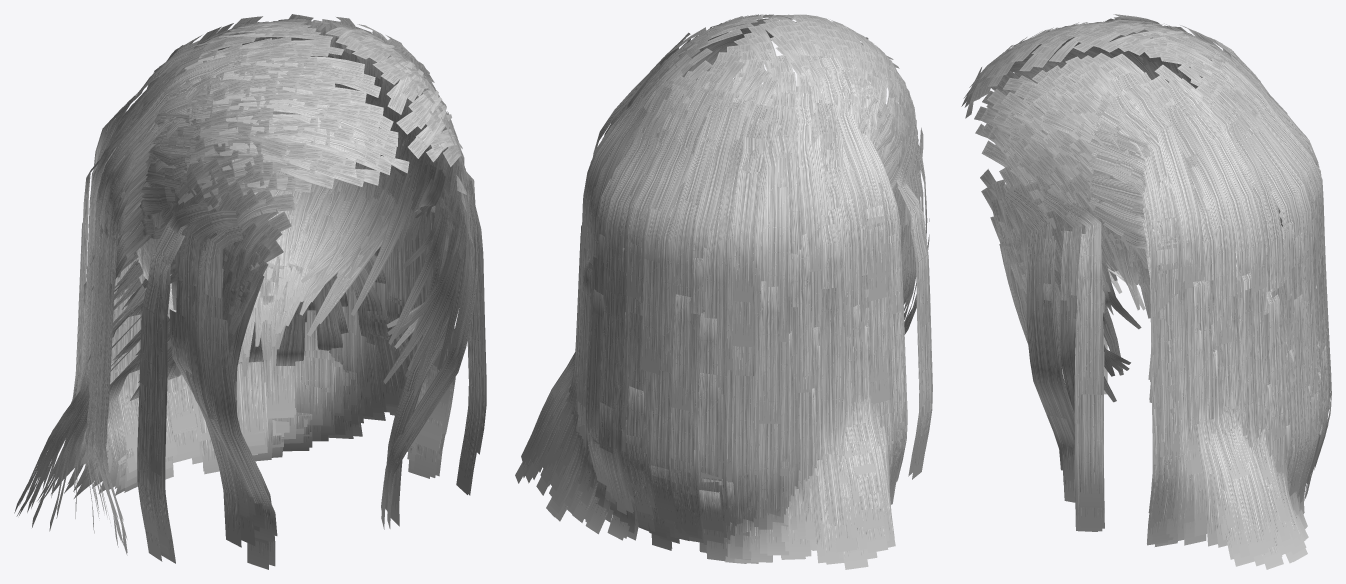
The model's file is NC_Head_Female_Cards7.fbx.
3 renders of one model, left to right at view 1: azimuth 30°, elevation 25°; view 2: azimuth 150°, elevation 25°; view 3: azimuth 270°, elevation 25°, orthographic. The views are drawn at different scales.
Visible parts, largest first — view 1: Hair_Bob_CapCards, Hair_Bob_Cards_2, Hair_Bob_Cards_3; view 2: Hair_Bob_Cards_3, Hair_Bob_CapCards, Hair_Bob_Cards_2; view 3: Hair_Bob_Cards_3, Hair_Bob_Cards_2, Hair_Bob_CapCards.
Boxes of the visible parts, x1,y1,x2,y2 form: Hair_Bob_CapCards: (16,162,482,561); Hair_Bob_Cards_2: (19,19,472,569); Hair_Bob_Cards_3: (14,14,486,556); Hair_Bob_Cards_3: (515,27,932,564); Hair_Bob_CapCards: (523,163,932,569); Hair_Bob_Cards_2: (533,14,920,561); Hair_Bob_Cards_3: (1004,14,1331,569); Hair_Bob_Cards_2: (961,19,1322,559); Hair_Bob_CapCards: (999,177,1330,566).
Bounding box in the file's own units: 0.8777 × 1.03 × 0.7483.
1 material, 1 textured.
